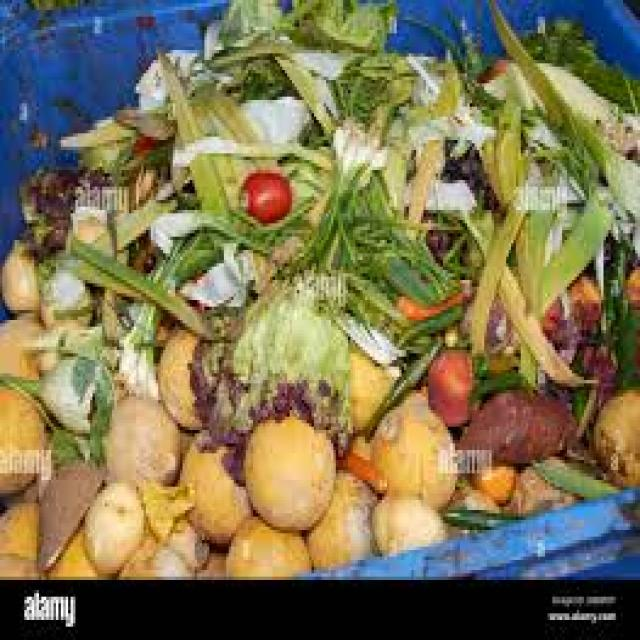Organik: (5, 11, 640, 574), (142, 276, 402, 572), (224, 146, 306, 242)
